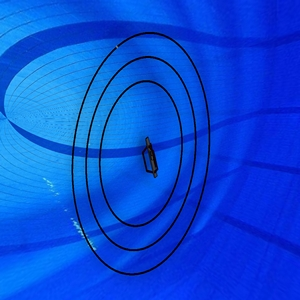circle: (68, 30, 214, 279)
submarine: (140, 135, 164, 184)
